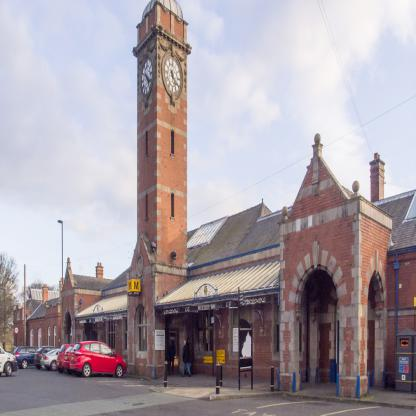Car: (0, 339, 129, 374)
